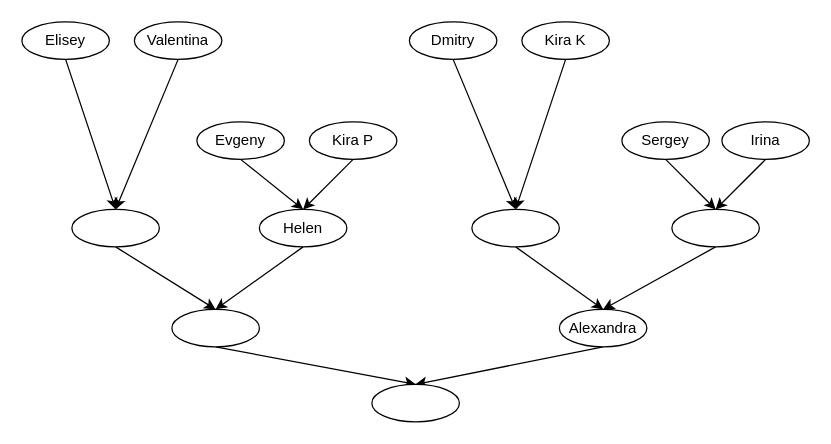
This 831x444 diagram has some shape labels left out. The shapes that lost their labels are listed below. From the top down, each one's centre as x and y in pixels, then its label:
point (115, 227): Vasiliy
point (515, 227): Gennadiy
point (715, 227): Anastasia
point (215, 327): Alexey
point (415, 402): Ivan
